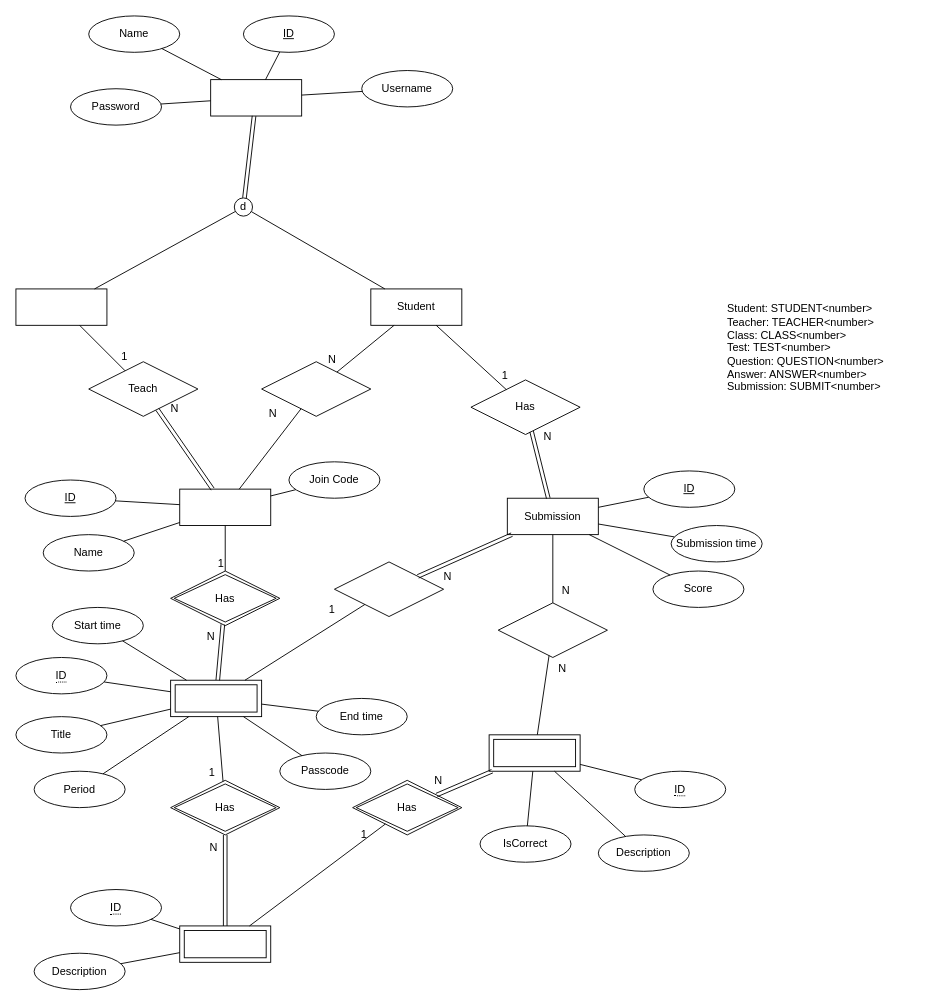
The diagram is 951 pixels wide and 1006 high, and some of its shapes have lost their labels. Each missing label, with the centre of its shape:
Answer: the point at 534,752
Class: the point at 225,507
In class: the point at 316,388
Of: the point at 389,589
Question: the point at 225,943
Student choice: the point at 552,629
Teacher: the point at 61,306
Test: the point at 216,698
User: the point at 256,97
